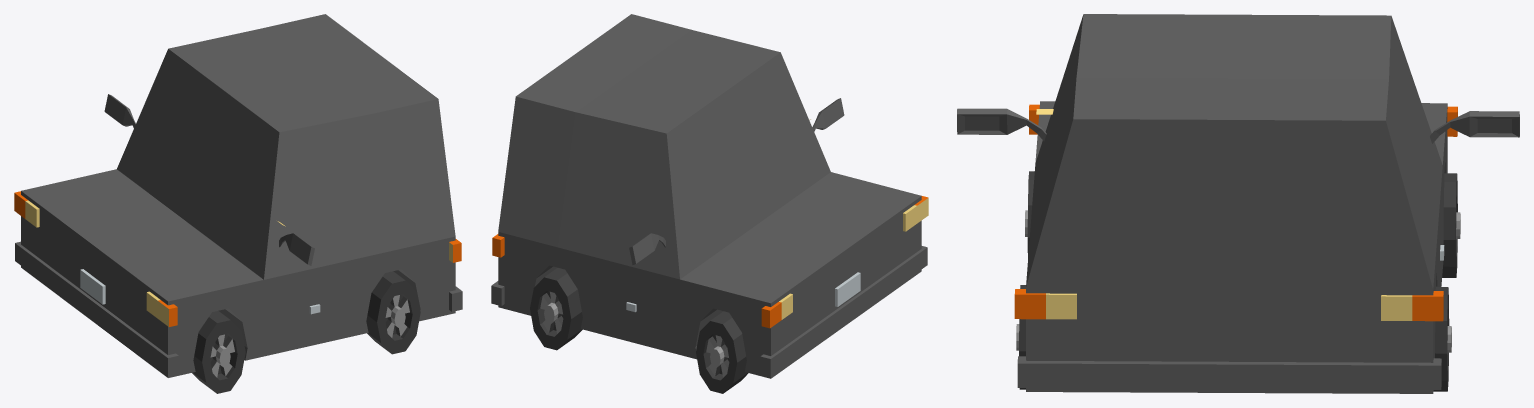
Rendered from carrito.fbx.
3 views of the same model, side by side, from view 1: azimuth 30°, elevation 25°; view 2: azimuth 150°, elevation 25°; view 3: azimuth 270°, elevation 25° (orthographic). The views are drawn at different scales.
Parts seen in each view (by area): view 1: Carro; view 2: Carro; view 3: Carro.
Boxes of the visible parts, <box> form: Carro: <box>14,14,462,393</box>; Carro: <box>491,14,928,393</box>; Carro: <box>957,14,1519,393</box>.
Size of the model in its own units: 186 by 138 by 228.
Materials: 1 (1 with a texture image).
